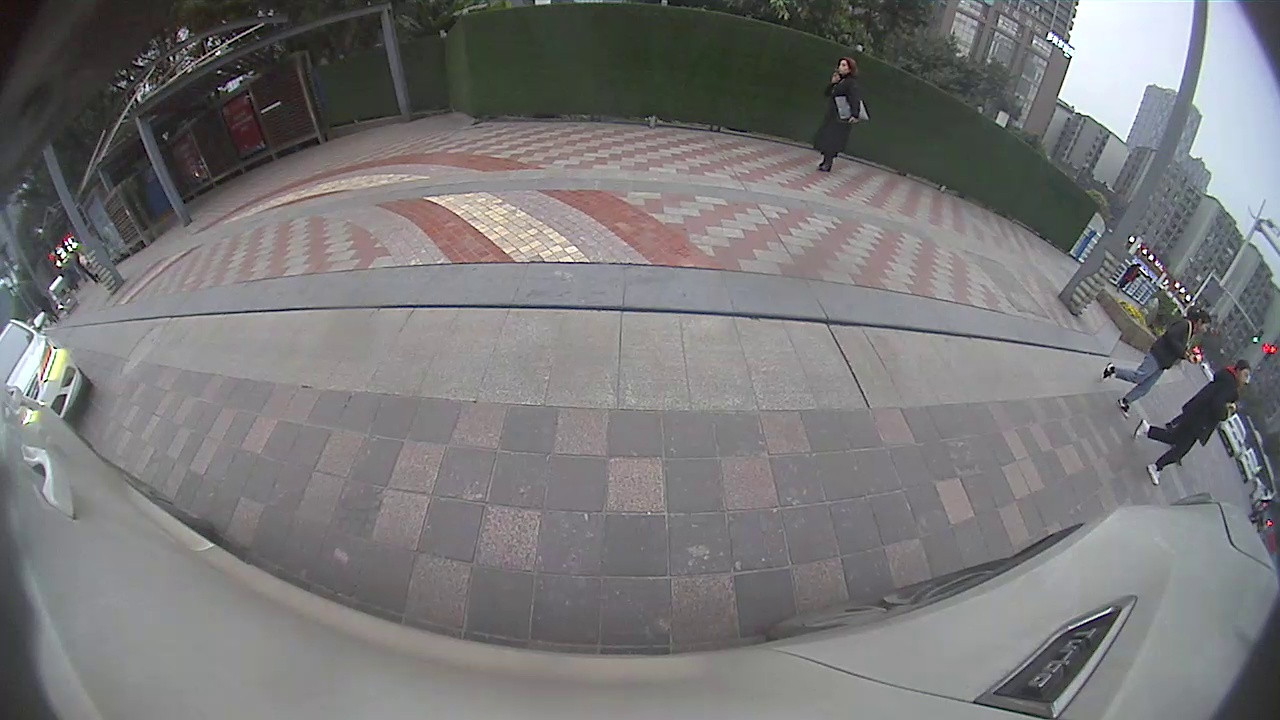car: (2, 308, 93, 421)
person: (1146, 358, 1254, 488), (815, 56, 859, 174)
